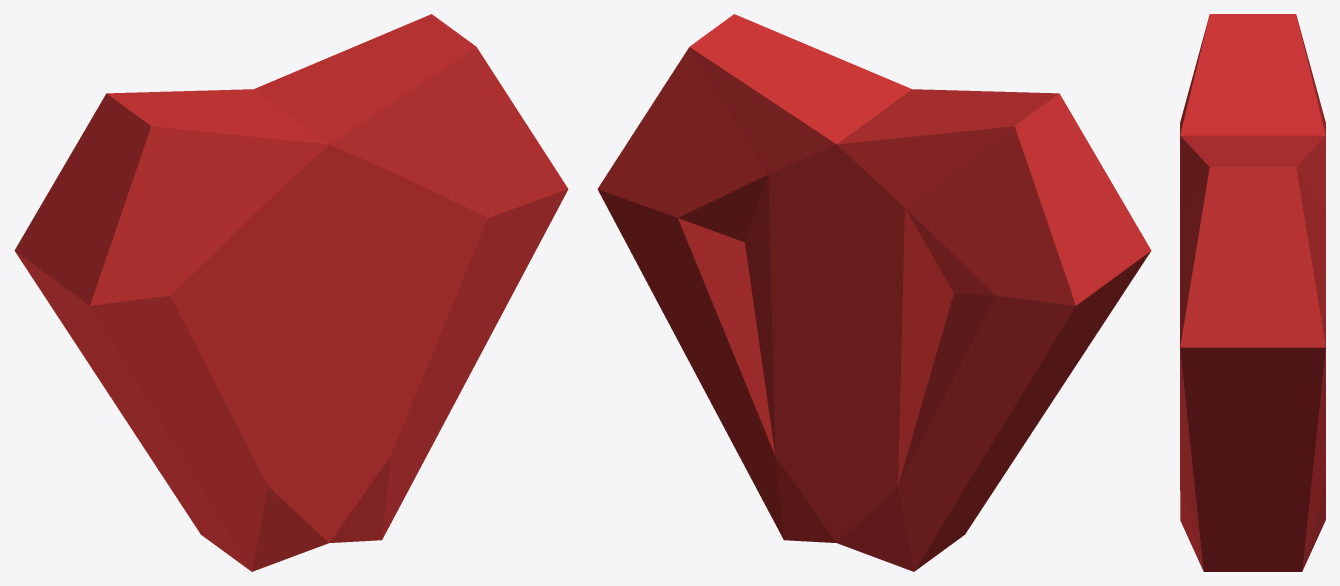
Rendered from Heart.fbx.
3 renders of one model, left to right at view 1: azimuth 30°, elevation 25°; view 2: azimuth 150°, elevation 25°; view 3: azimuth 270°, elevation 25°, orthographic. The views are drawn at different scales.
Parts seen in each view (by area): view 1: HeartR, HeartL; view 2: HeartR, HeartL; view 3: HeartL, HeartR.
Part boxes in pixels (x1,y1,x2,y2): HeartR: (14, 89, 329, 571); HeartL: (254, 14, 568, 542); HeartR: (836, 89, 1151, 571); HeartL: (597, 14, 911, 542); HeartL: (1180, 135, 1325, 571); HeartR: (1180, 14, 1325, 191).
Size of the model in its own units: 18.29 by 17.07 by 5.
